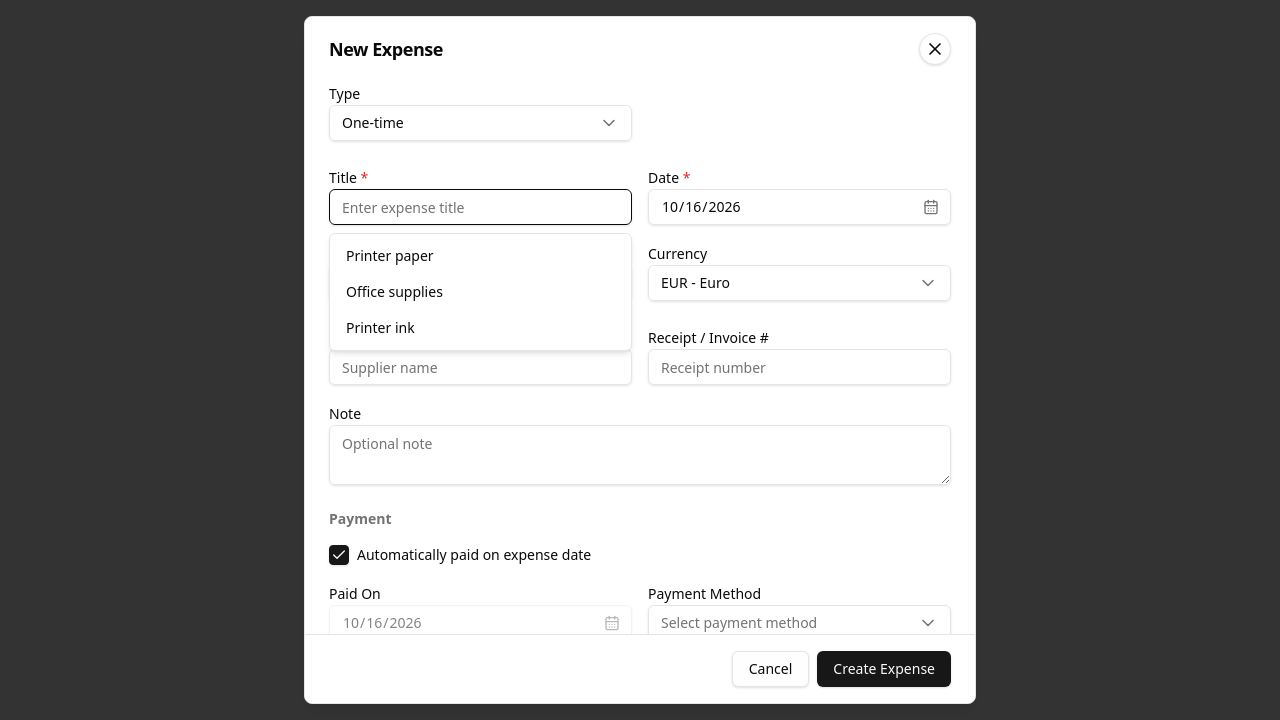
ExpenseModal › shows recent supplier suggestions on focus and applies a clicked suggestion
Step 1. Click the field labelled "Supplier / Business" → coordinates (480, 367), box [329, 349, 632, 385]
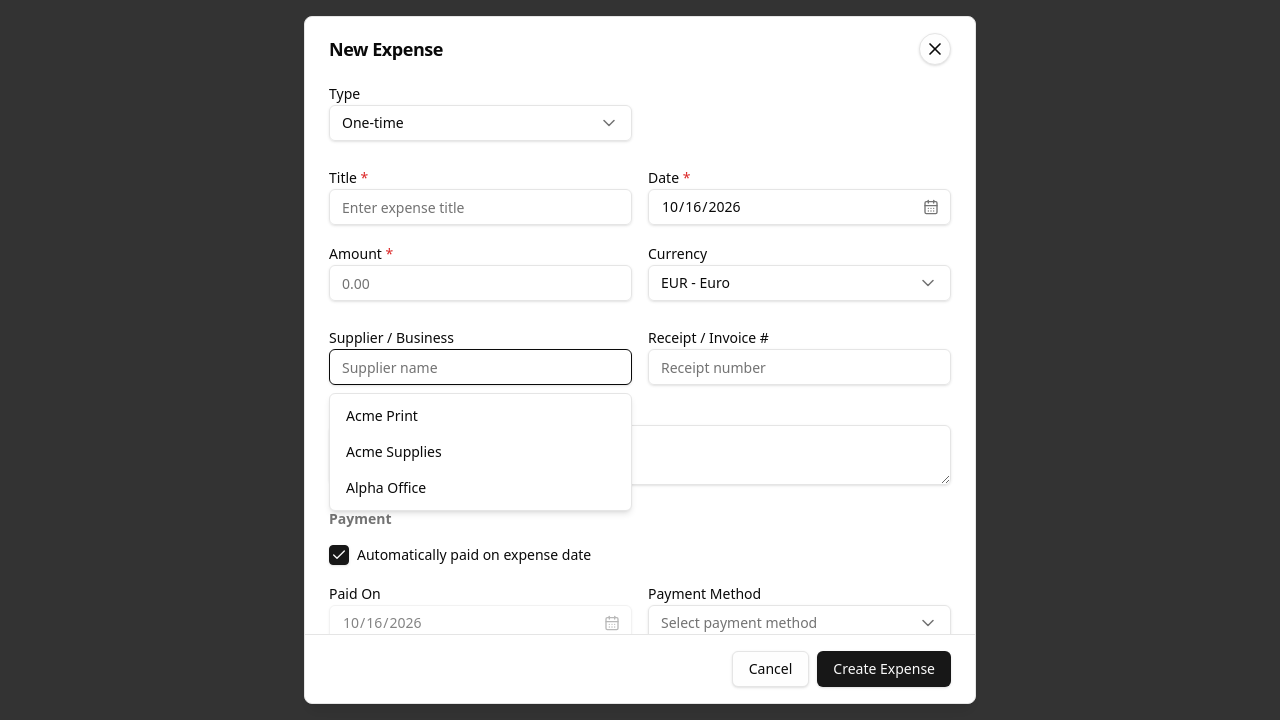
Step 2. Type "acme s" into the field labelled "Supplier / Business" → coordinates (480, 367), box [329, 349, 632, 385]
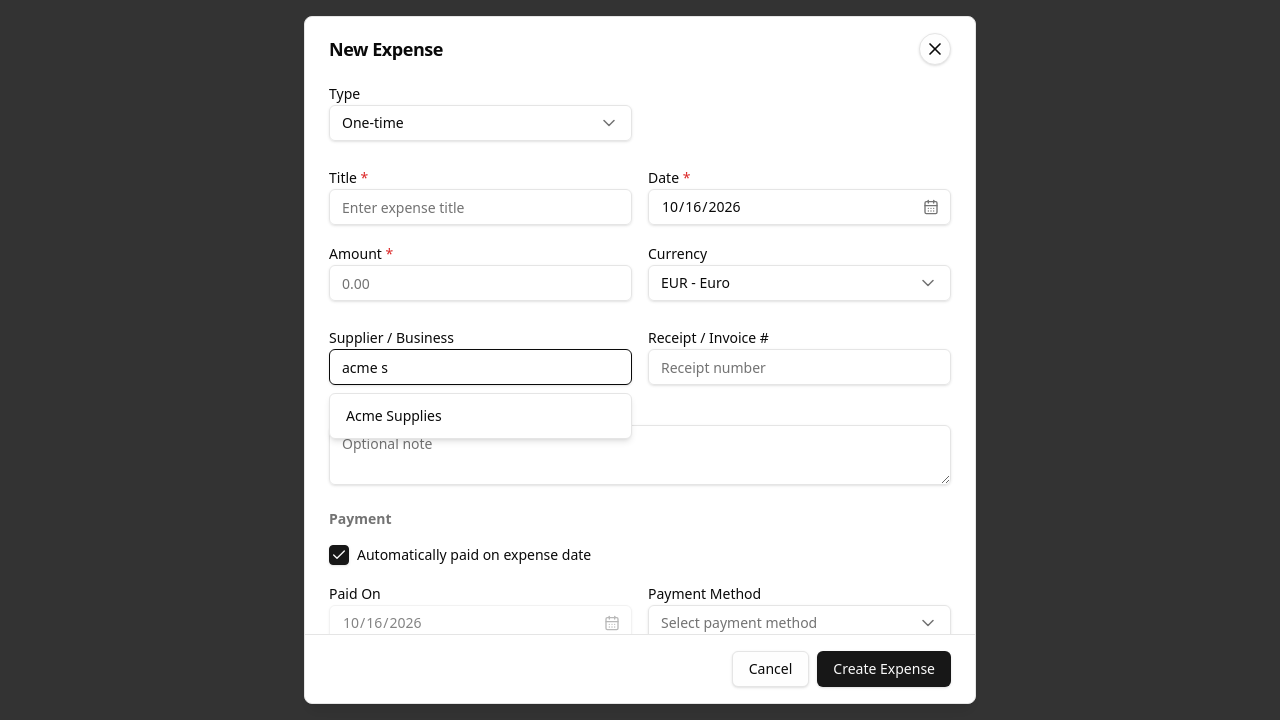
Expected: the option "Acme Supplies" is shown
Step 3. Click the option "Acme Supplies" → coordinates (394, 416), box [334, 398, 627, 434]
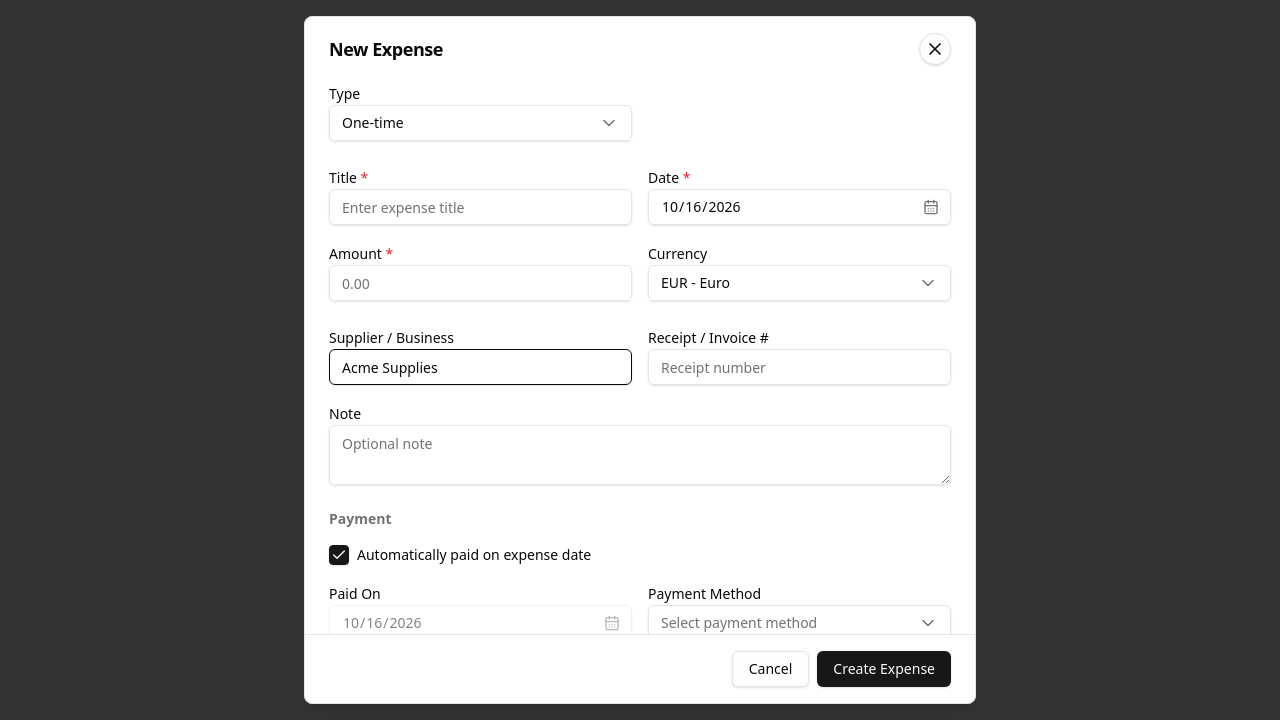
Expected: the field labelled "Supplier / Business" holds "Acme Supplies", [329, 349, 632, 385]
